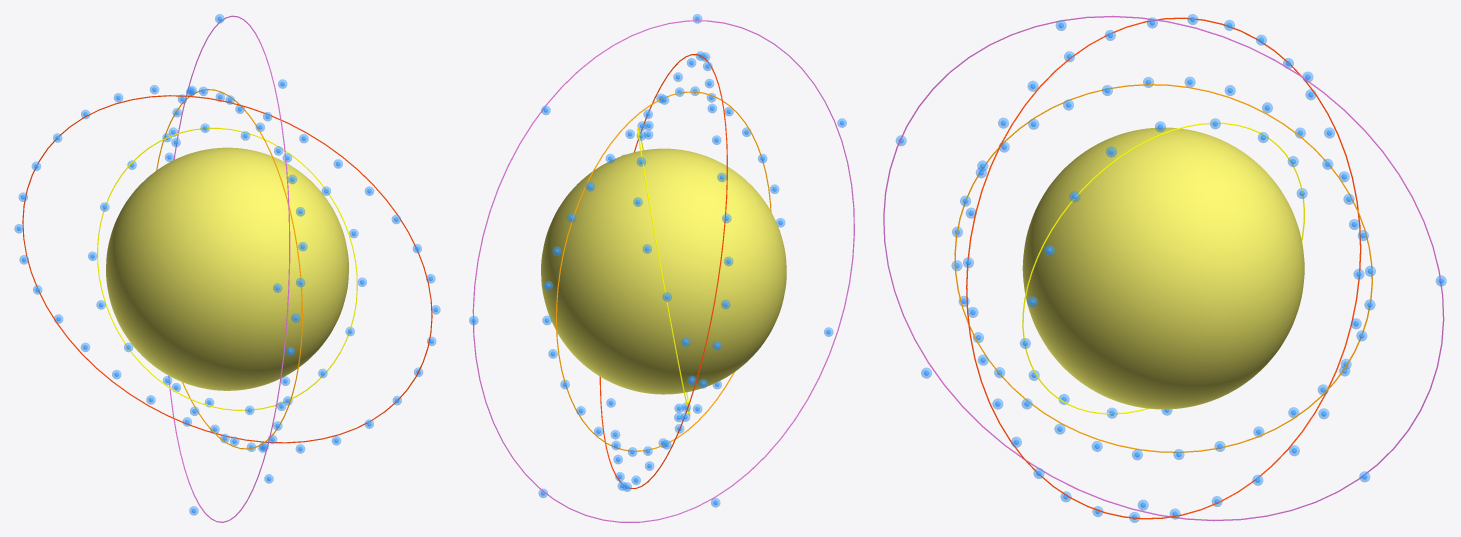
3 renders of one model, left to right at view 1: azimuth 30°, elevation 25°; view 2: azimuth 150°, elevation 25°; view 3: azimuth 270°, elevation 25°, orthographic. The views are drawn at different scales.
Visible parts, largest first — view 1: Es, object 126, object 191, object 24, object 61; view 2: Es, object 191, object 61, object 126, object 24; view 3: Es, object 191, object 126, object 61, object 24.
Part boxes in pixels (x1=…): Es: x1=106, y1=147, x2=348, y2=390; object 126: x1=22, y1=95, x2=432, y2=443; object 191: x1=168, y1=15, x2=290, y2=522; object 24: x1=97, y1=127, x2=357, y2=410; object 61: x1=156, y1=89, x2=302, y2=449; Es: x1=541, y1=148, x2=786, y2=394; object 191: x1=472, y1=20, x2=854, y2=522; object 61: x1=555, y1=91, x2=771, y2=451; object 126: x1=599, y1=54, x2=727, y2=488; object 24: x1=637, y1=127, x2=690, y2=415; Es: x1=1022, y1=127, x2=1304, y2=409; object 191: x1=883, y1=15, x2=1444, y2=521; object 126: x1=966, y1=17, x2=1361, y2=519; object 61: x1=954, y1=84, x2=1372, y2=452; object 24: x1=1022, y1=122, x2=1304, y2=414.
Size of the model in its own units: 5.24 by 8.37 by 8.06.
